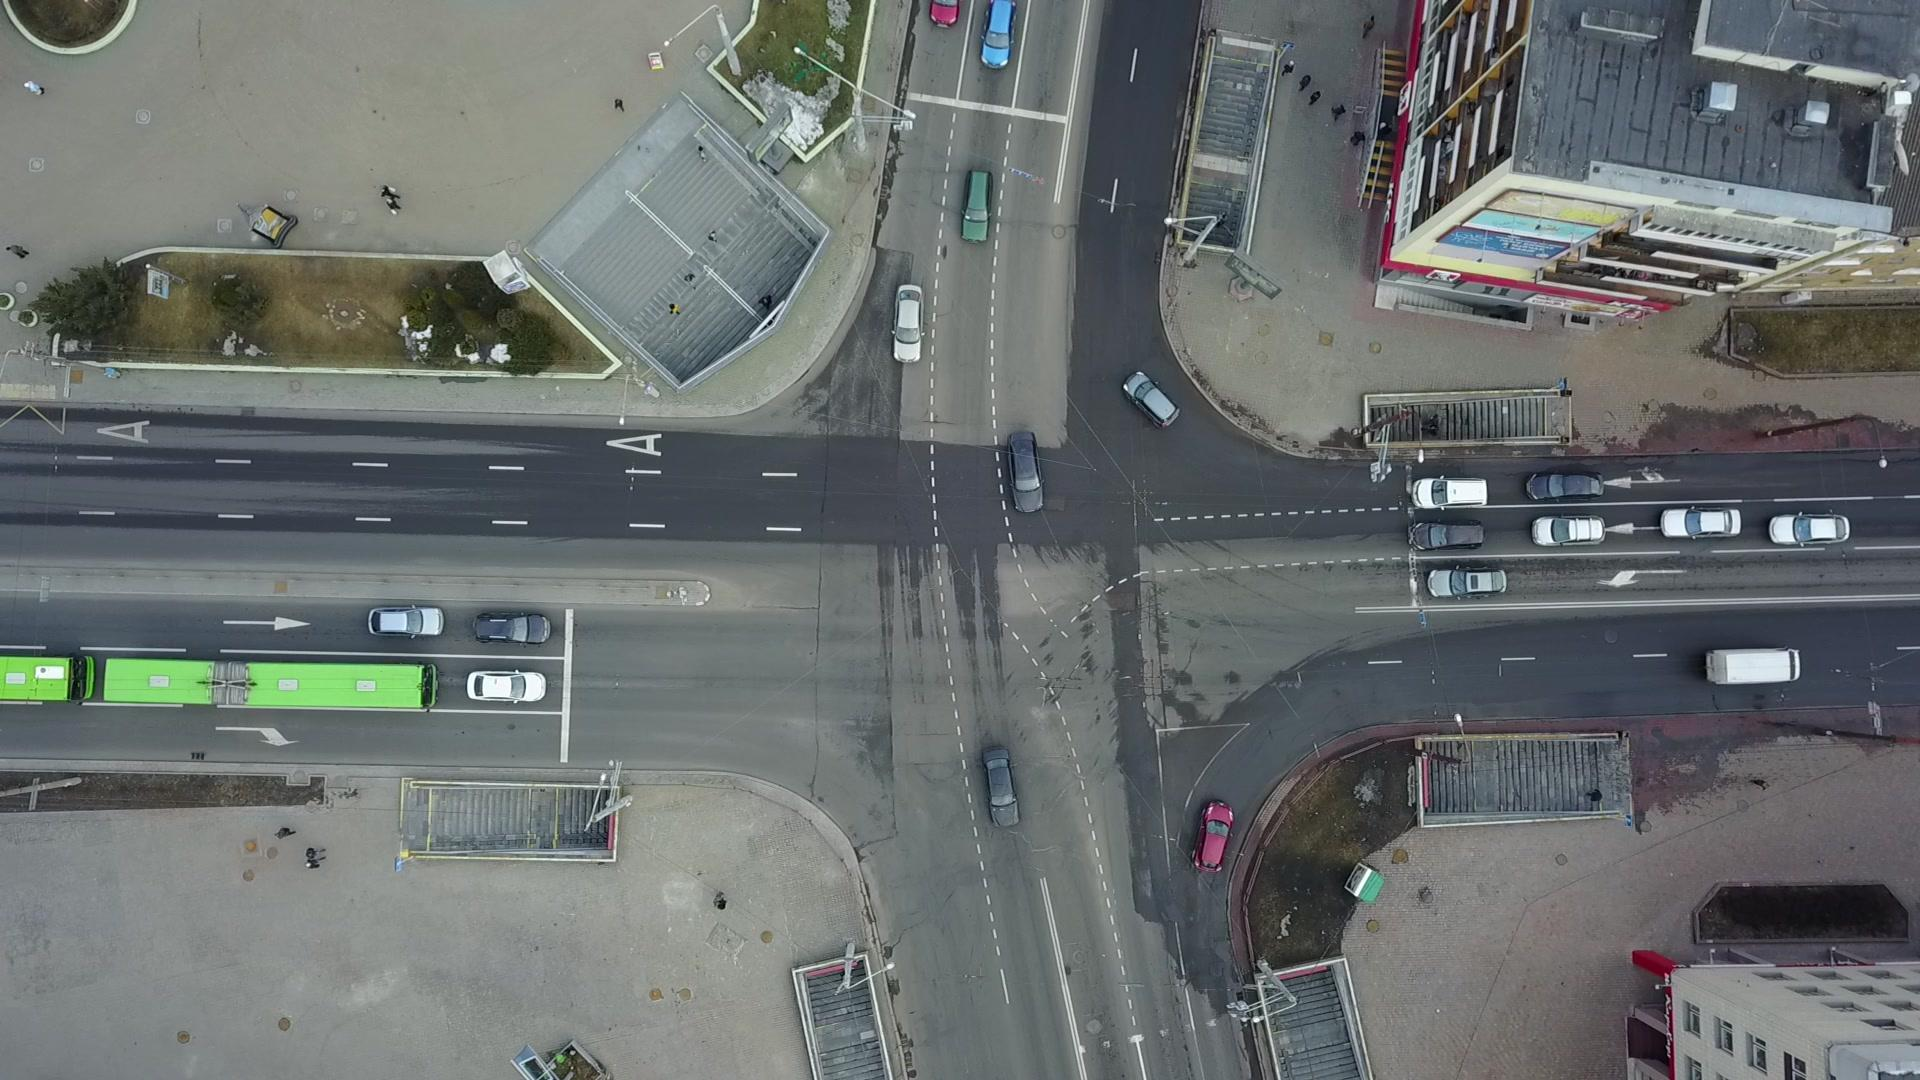car: (1003, 428, 1047, 515), (980, 744, 1023, 828), (1120, 370, 1181, 428), (1190, 798, 1236, 872), (1425, 563, 1508, 601), (1768, 511, 1851, 548), (1660, 503, 1742, 540), (367, 603, 444, 642), (1409, 474, 1489, 511), (472, 610, 551, 647), (466, 668, 547, 703), (1531, 511, 1607, 548), (1407, 516, 1485, 552), (891, 283, 926, 363), (1523, 469, 1604, 503), (978, 0, 1017, 70), (961, 170, 994, 243)
